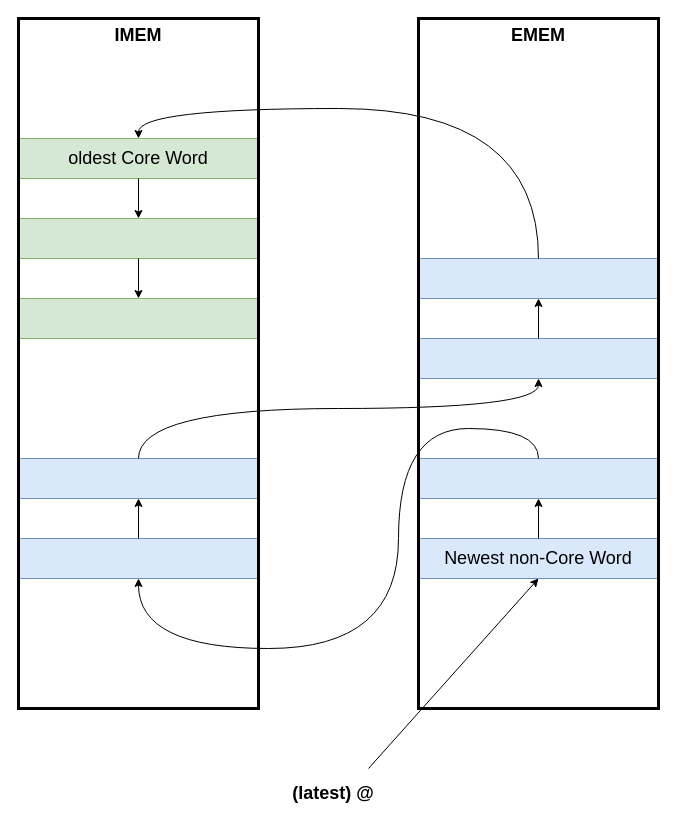
Some shapes in this 677 by 826 pixel diagram are drawn without their labels. The centre of each missing label's shape, as x and y in pixels:
Newest Core Word: point (138, 318)
Oldest non-Core Word: point (538, 278)
